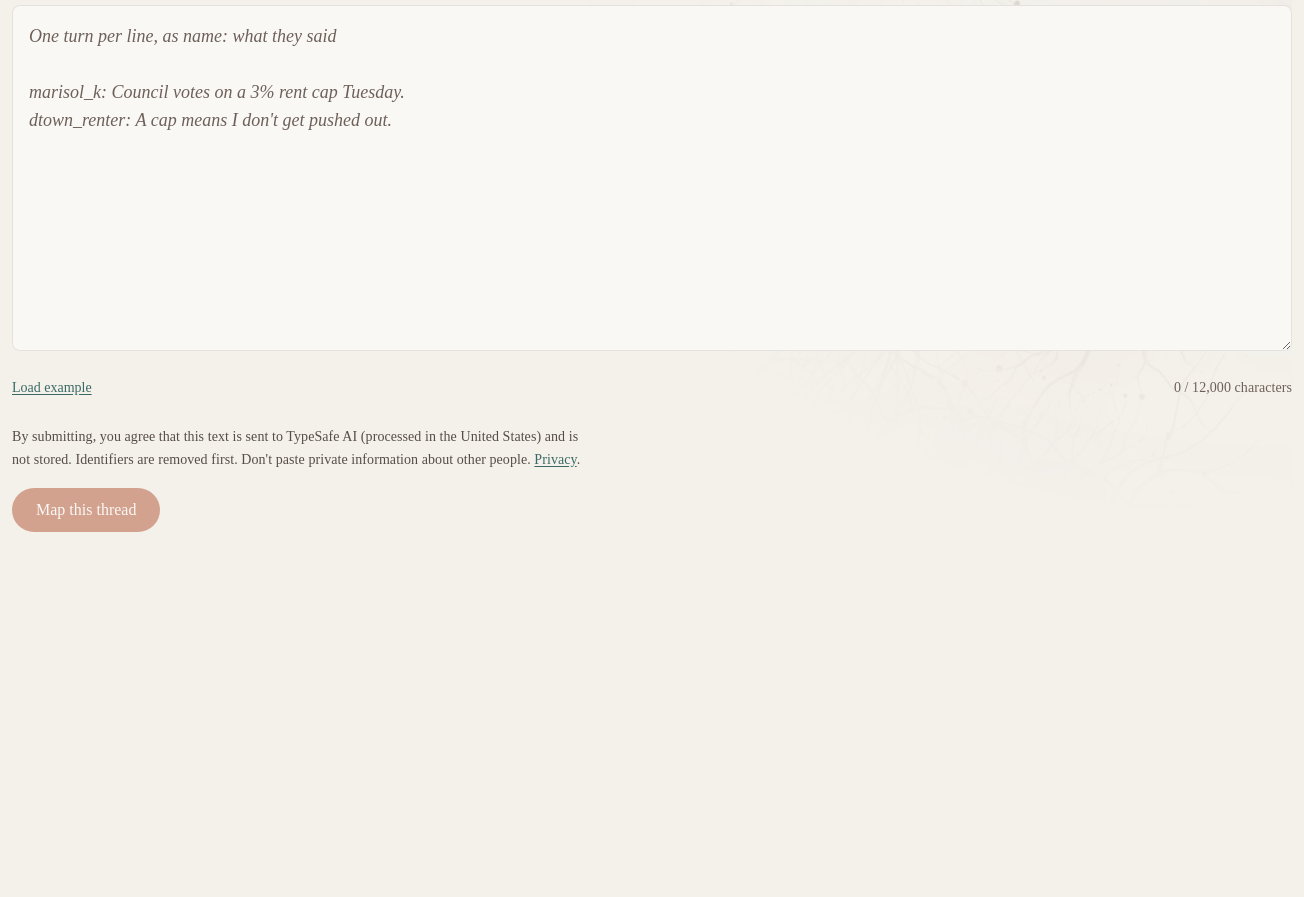
Test case: MapReplyClient API boundary › renders a genuine match pipeline response
Click the button "Load example" at (52, 388), box [12,366,92,410]
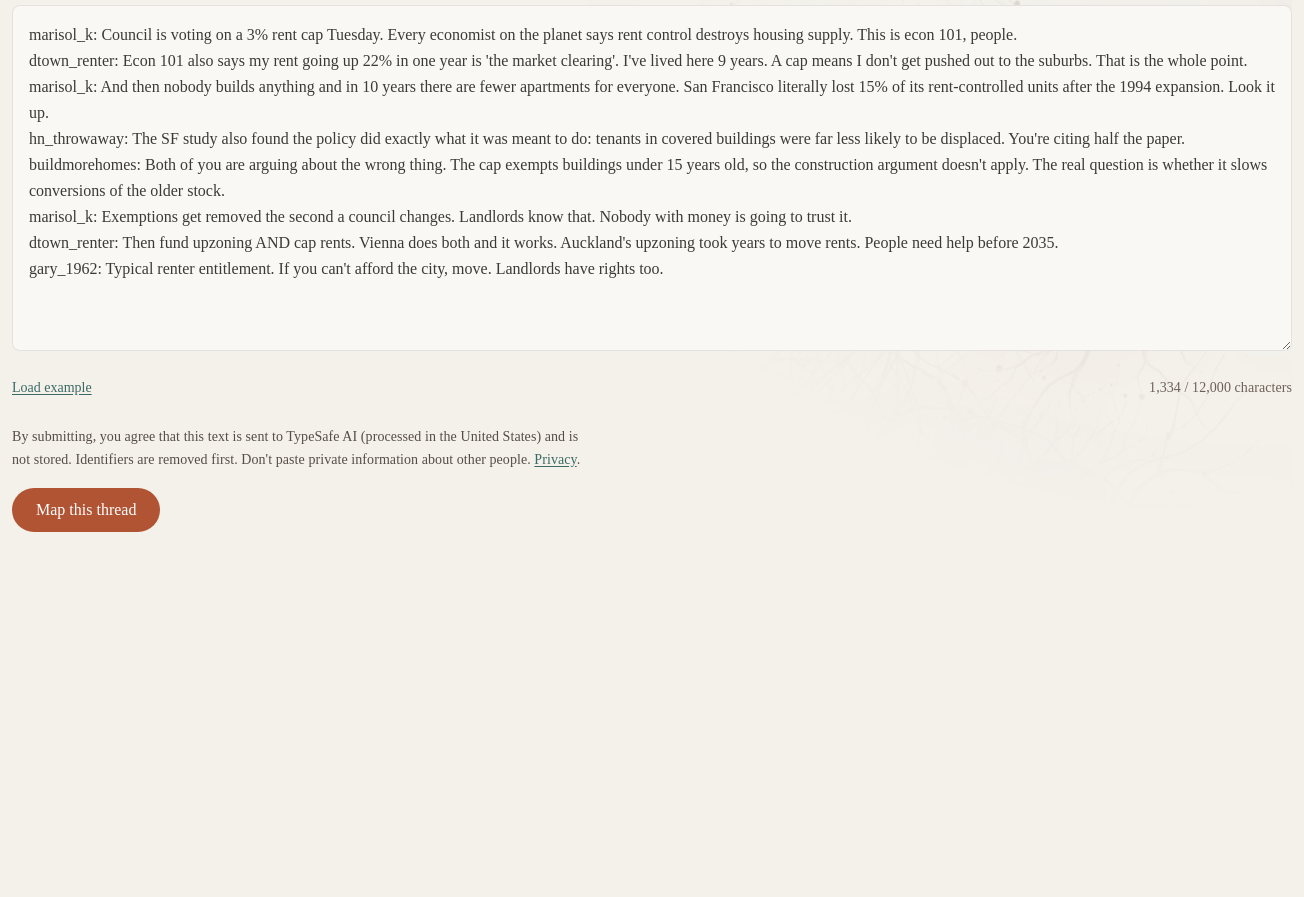
Click the button "Map this thread" at (86, 510), box [12,488,160,532]
(page scrolled)
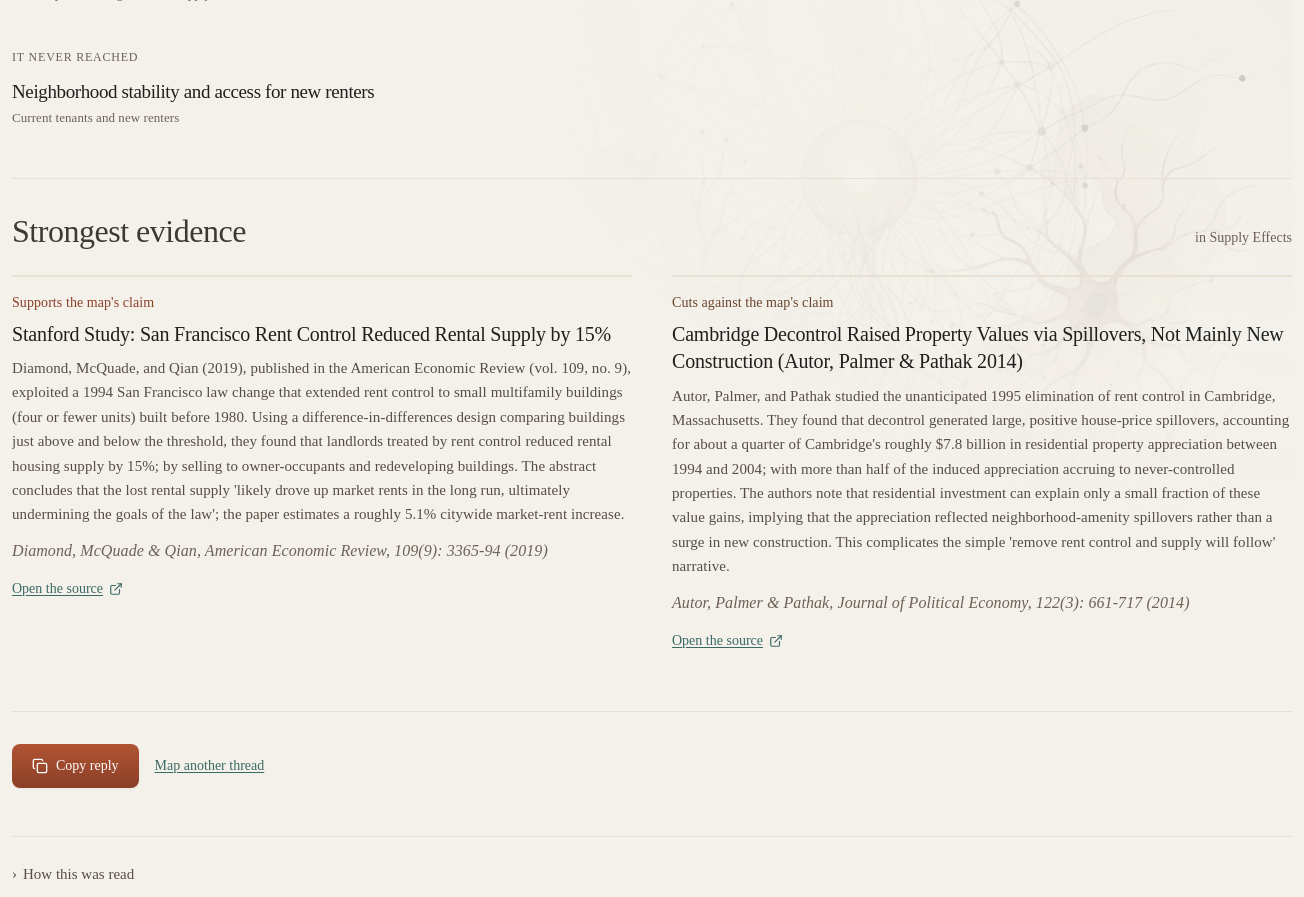
expect the button "Map another thread" is shown: met, box [155,744,264,788]
